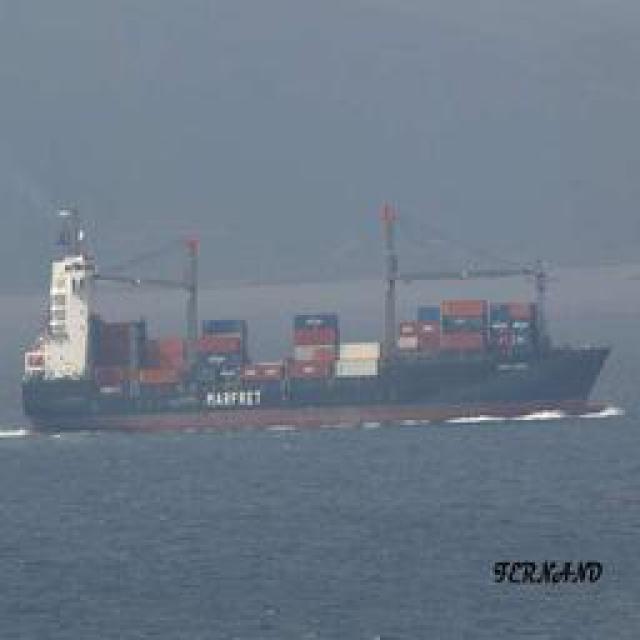Ship: (22, 202, 615, 430)
